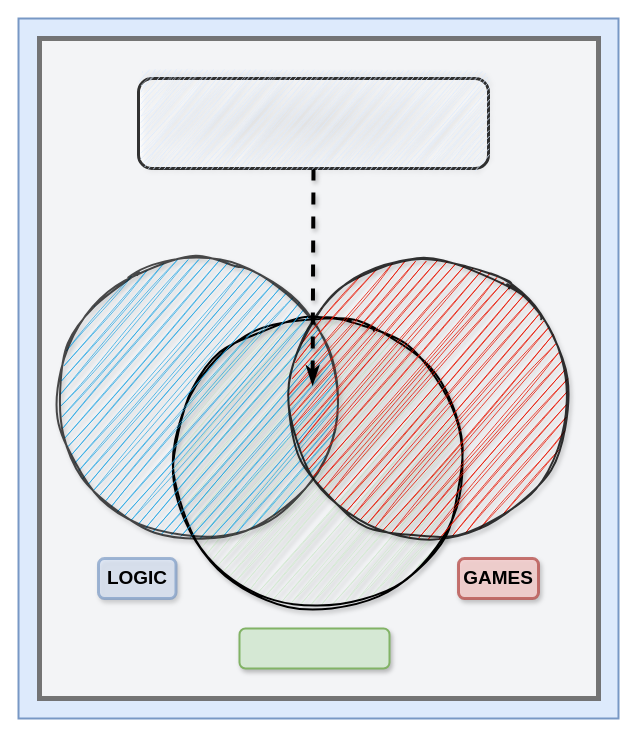
Some shapes in this 636 by 736 pixel diagram are drawn without their labels. Here are the shapes that lost their labels. From the top down, the centre of each, then its label:
At (x=314, y=119): "Model Checkers for Multi-Agent Systems".
At (x=315, y=649): "SIMULATIONS".
